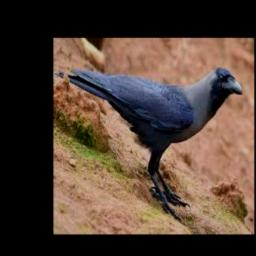Crow: (54, 66, 242, 221)
